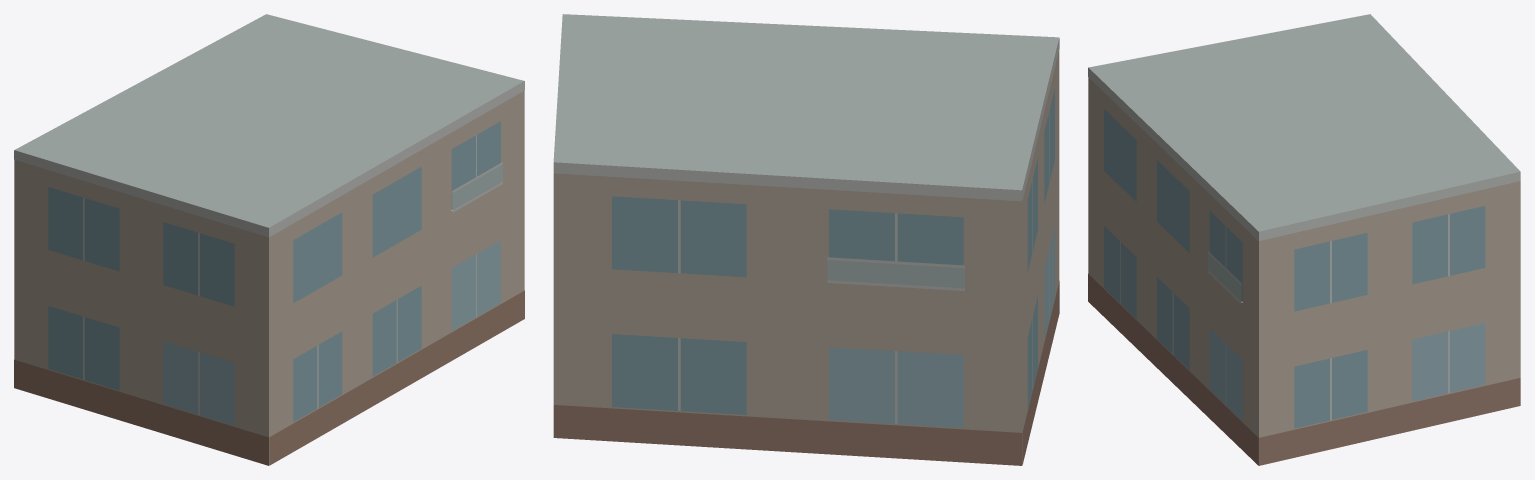
File: survey-upis-32884442.glb
The picture shows the model from 3 angles, left to right: view 1: azimuth 30°, elevation 25°; view 2: azimuth 150°, elevation 25°; view 3: azimuth 270°, elevation 25°; orthographic projection. The views are drawn at different scales.
Visible parts, largest first — view 1: survey-upis-32884442.tmp; view 2: survey-upis-32884442.tmp; view 3: survey-upis-32884442.tmp.
Boxes of the visible parts, <box> form: survey-upis-32884442.tmp: <box>14,14,524,465</box>; survey-upis-32884442.tmp: <box>553,14,1059,465</box>; survey-upis-32884442.tmp: <box>1088,14,1520,465</box>.
Bounding box in the file's own units: 12.18 × 6.1 × 10.22.
